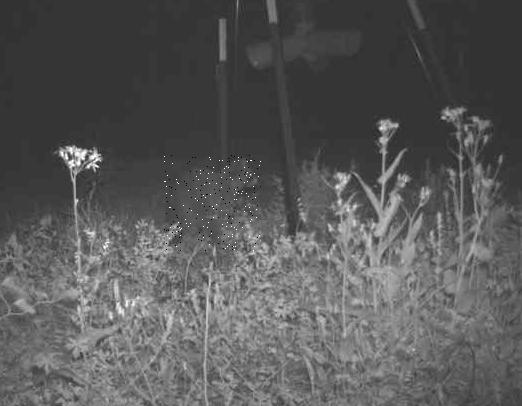Raccoon: (164, 155, 261, 251)
